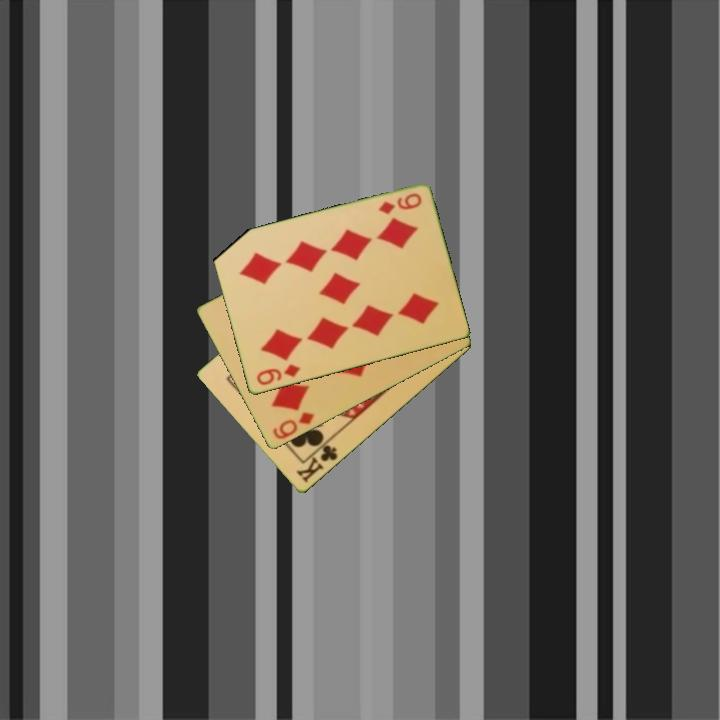6d: (269, 409, 317, 442)
9d: (253, 361, 303, 389), (374, 190, 424, 218)
Kc: (292, 436, 341, 486)
